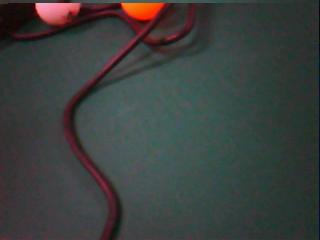oball: (120, 3, 170, 21)
